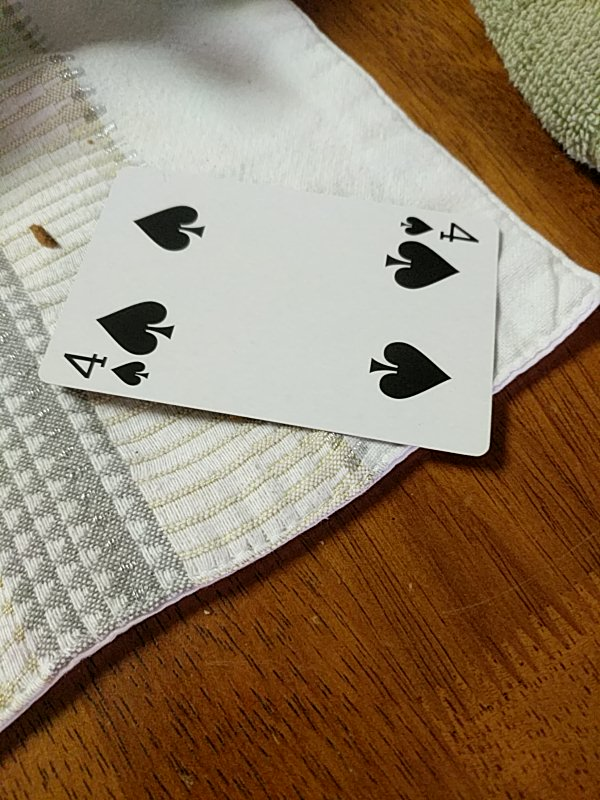Spades: (37, 161, 503, 457)
